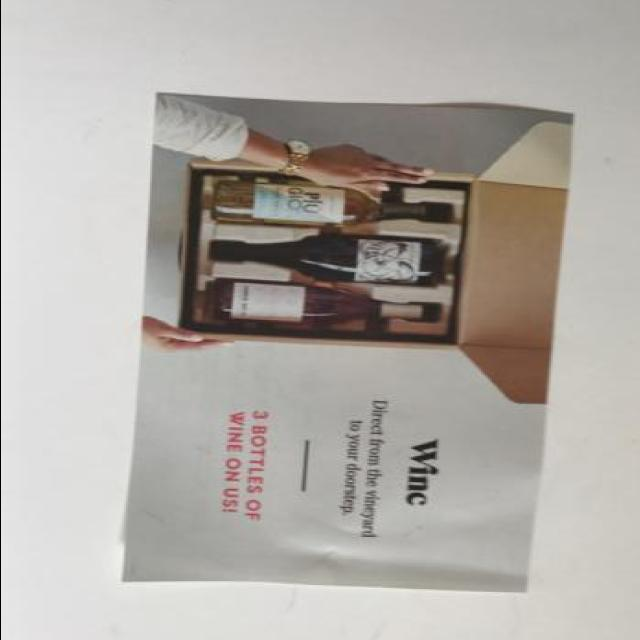kertas: (118, 93, 575, 592)
